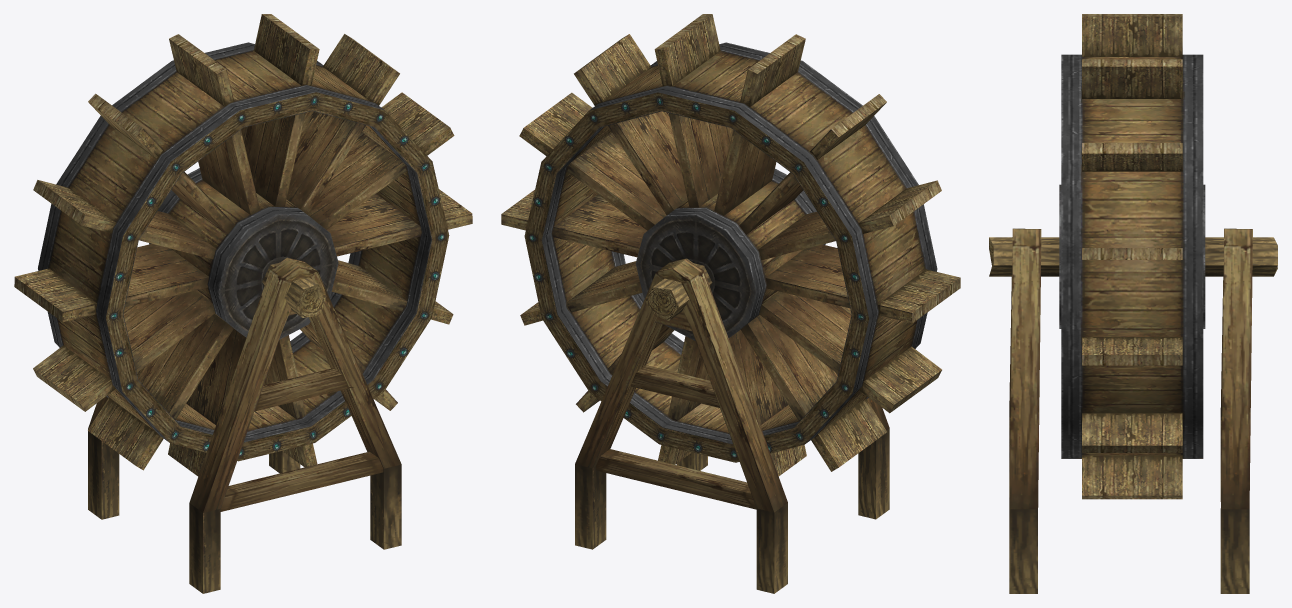
File: KQZD_shuiche.FBX
The picture shows the model from 3 angles, left to right: view 1: azimuth 30°, elevation 25°; view 2: azimuth 150°, elevation 25°; view 3: azimuth 270°, elevation 25°; orthographic projection. The views are drawn at different scales.
Visible parts, largest first — view 1: KQZD_shuiche; view 2: KQZD_shuiche; view 3: KQZD_shuiche.
Part boxes in pixels (bbox=[...]): KQZD_shuiche: bbox=[14, 14, 472, 593]; KQZD_shuiche: bbox=[501, 14, 960, 593]; KQZD_shuiche: bbox=[989, 14, 1277, 593].
Size of the model in its own units: 436 by 255 by 493.
